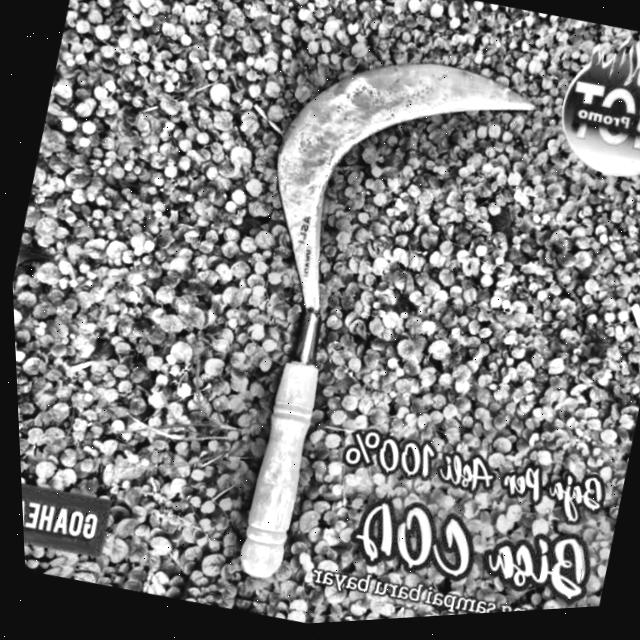celurit: (224, 59, 545, 585)
